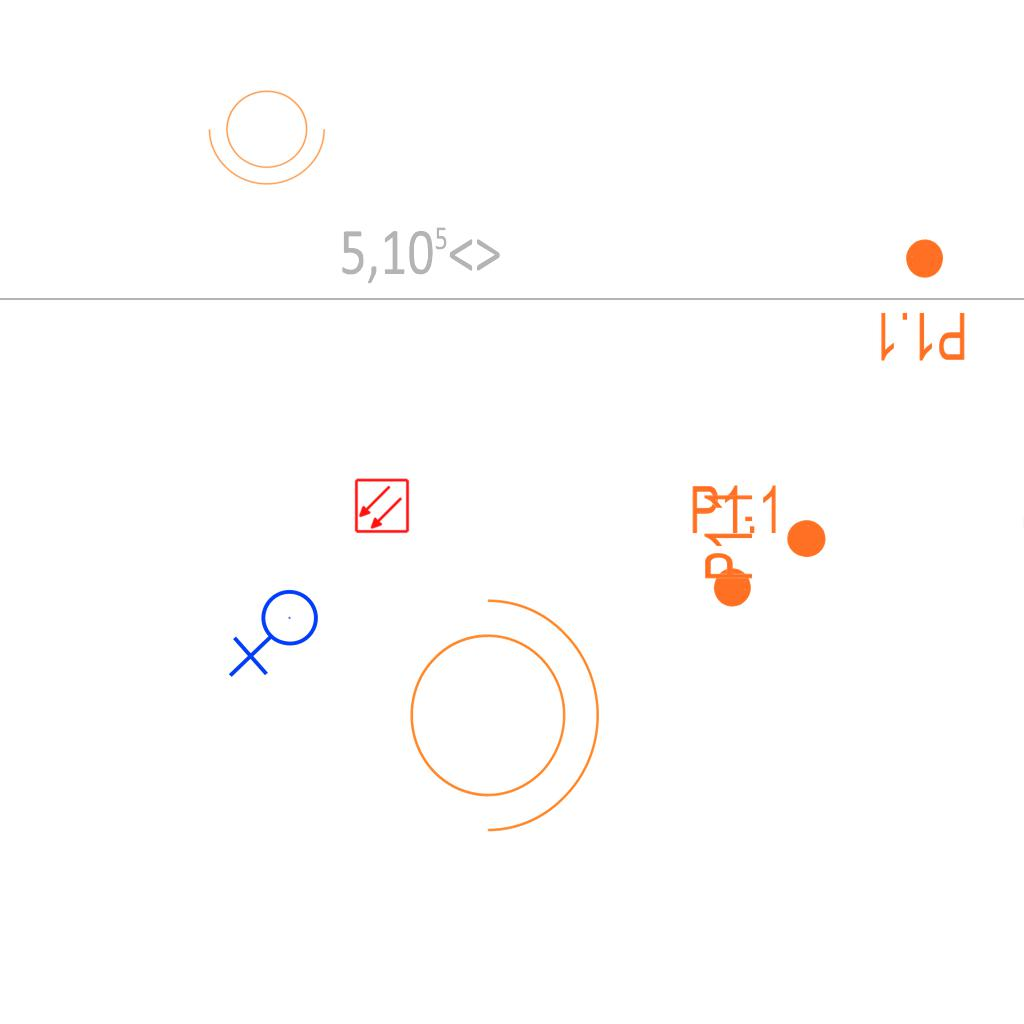Downlight_LED_Einbauleuchten_Flur: (689, 482, 782, 610), (875, 236, 968, 364), (701, 489, 829, 582)
Elektroanschluss_allgemein_230V_Geraeteanschlussdose_230V: (228, 588, 327, 682)
RMO_Rauchmelder_optischer: (354, 478, 410, 534)
Scheinwerfer_fuer_Alarmbeleuchtung: (385, 577, 610, 841), (204, 78, 336, 190)
